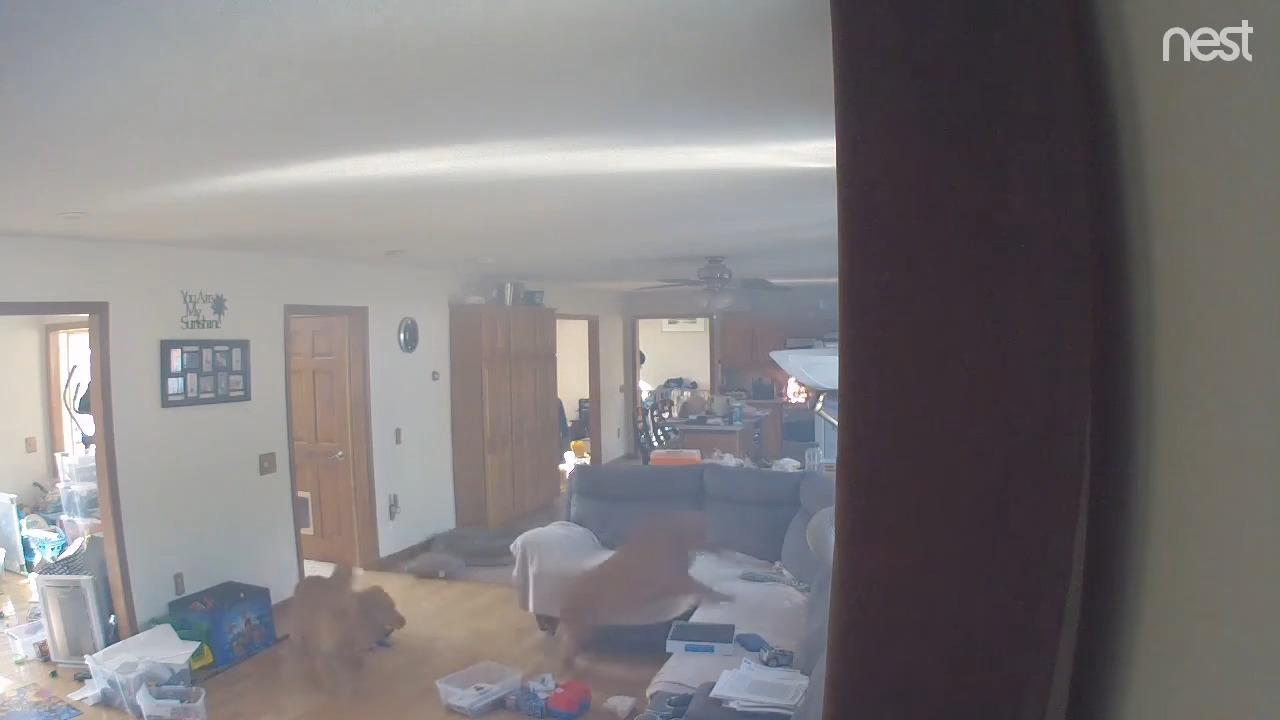fire: (786, 377, 807, 403)
